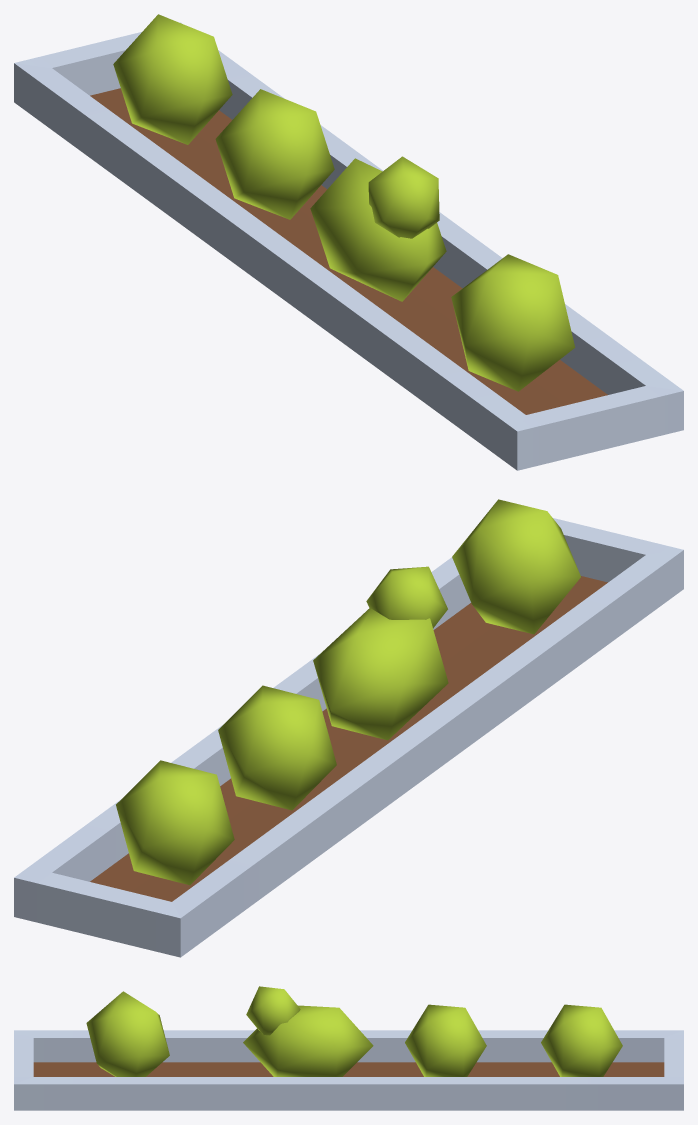
Rendered from daicay.fbx.
3 renders of one model, top to bottom at view 1: azimuth 30°, elevation 25°; view 2: azimuth 150°, elevation 25°; view 3: azimuth 270°, elevation 25°, orthographic. The views are drawn at different scales.
Parts seen in each view (by area): view 1: daicay; view 2: daicay; view 3: daicay.
Part boxes in pixels (bbox=[...]): daicay: bbox=[14, 14, 683, 470]; daicay: bbox=[14, 499, 683, 957]; daicay: bbox=[14, 986, 683, 1110].
Size of the model in its own units: 100 by 82.79 by 524.
